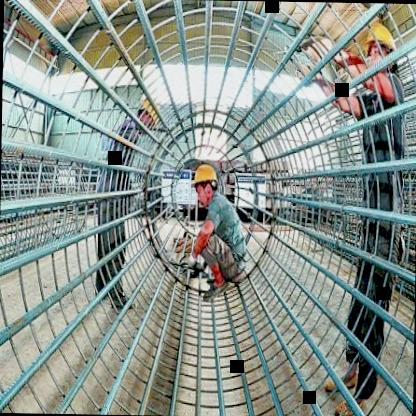helmet: (361, 18, 401, 74), (132, 87, 164, 138), (191, 158, 220, 206)
